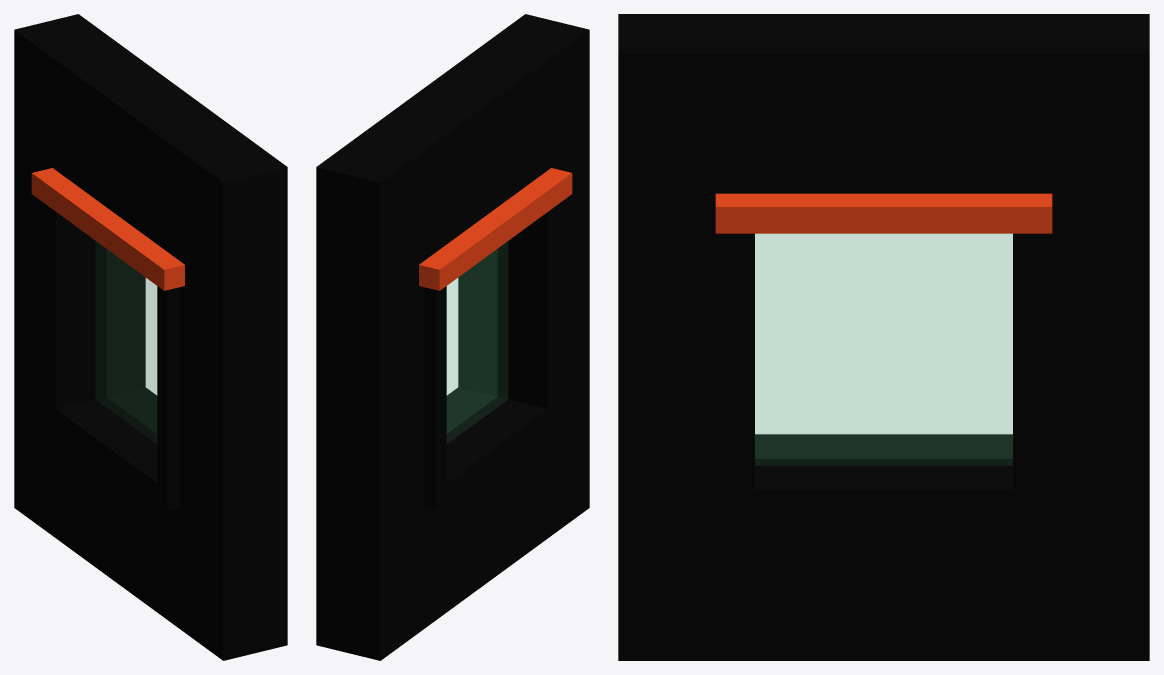
The model's file is wall with window.FBX.
3 renders of one model, left to right at view 1: azimuth 30°, elevation 25°; view 2: azimuth 150°, elevation 25°; view 3: azimuth 270°, elevation 25°, orthographic. The views are drawn at different scales.
Parts seen in each view (by area): view 1: Box1928; view 2: Box1928; view 3: Box1928.
Part boxes in pixels (bbox=[...]): Box1928: bbox=[14, 14, 287, 660]; Box1928: bbox=[316, 14, 589, 660]; Box1928: bbox=[618, 14, 1149, 660].
Bounding box in the file's own units: 1.36 × 5.81 × 4.61.
